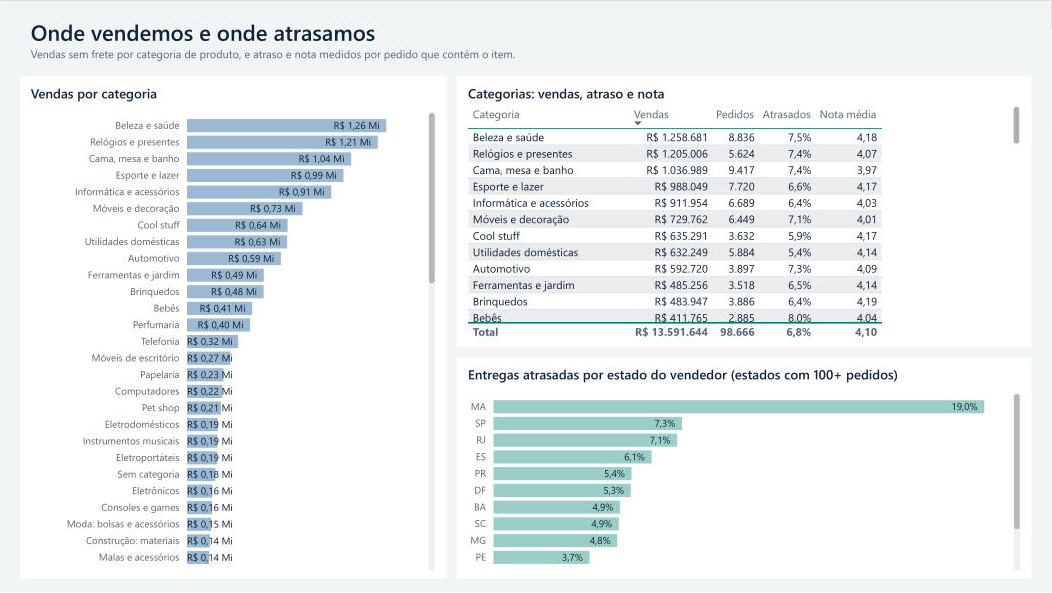

What the dashboard file says about the page in this screenshot:
{"tool":"powerbi","page":{"name":"Categorias e vendedores","canvas":[1280,720],"ordinal":2},"visuals":[{"type":"textbox","box":[24,10,1232,76],"z":1000},{"type":"clusteredBarChart","title":"Vendas por categoria","fields":{"Category":["Produtos.Categoria"],"Y":["Medidas.Vendas (itens)"]},"box":[24,92,520,612],"z":2000},{"type":"tableEx","title":"Categorias: vendas, atraso e nota","fields":{"Values":["Produtos.Categoria","Medidas.Vendas (itens)","Medidas.Pedidos com o item","Medidas.% atrasados (itens)","Medidas.Nota média (itens)"]},"box":[556,92,700,330],"z":3000},{"type":"clusteredBarChart","title":"Entregas atrasadas por estado do vendedor (estados com 100+ pedidos)","fields":{"Category":["Vendedores.Estado do vendedor"],"Y":["Medidas.% atrasados (100+ pedidos)"]},"box":[556,434,700,270],"z":4000}]}

Visuals, with their boxes in screenshot pixels (x1, y1, x2, y2), scaled from the page's 1280x720 canvas onto the 1052x593 screenshot:
textbox: region(20, 8, 1032, 71)
"Vendas por categoria" clusteredBarChart: region(20, 76, 447, 580)
"Categorias: vendas, atraso e nota" tableEx: region(457, 76, 1032, 348)
"Entregas atrasadas por estado do vendedor (estados com 100+ pedidos)" clusteredBarChart: region(457, 357, 1032, 580)
